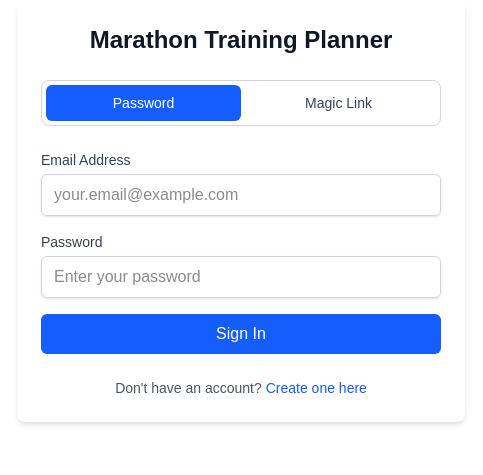
Test: LoginForm › Magic Link Mode › shows generic error message when signIn throws an exception
Click the button "Magic Link" at coordinates (338, 103), box [241,85,436,121]
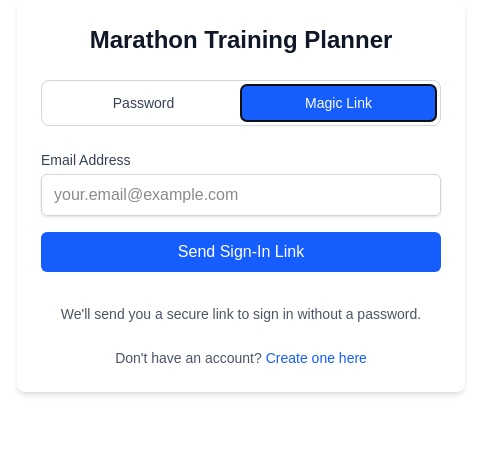
Type "test@example.com" into the field labelled "Email Address" at coordinates (241, 195), box [41,174,441,216]
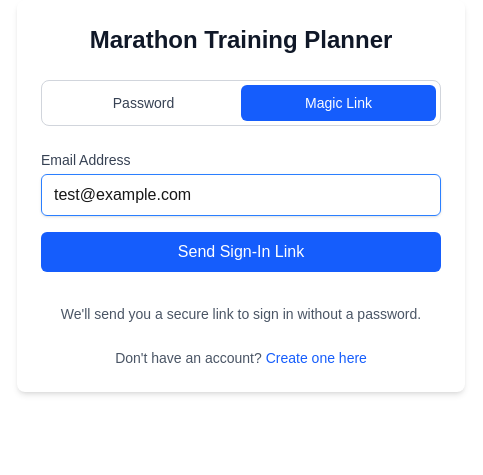
Click the button "Send Sign-In Link" at coordinates (241, 252), box [41,232,441,272]
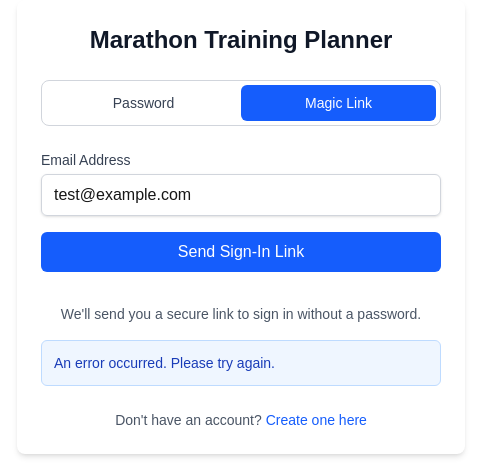
Result: the text "An error occurred. Please try again." is shown at [54,355,275,371]
